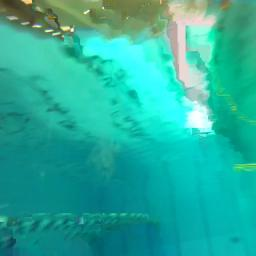Full: (229, 237, 241, 244)
